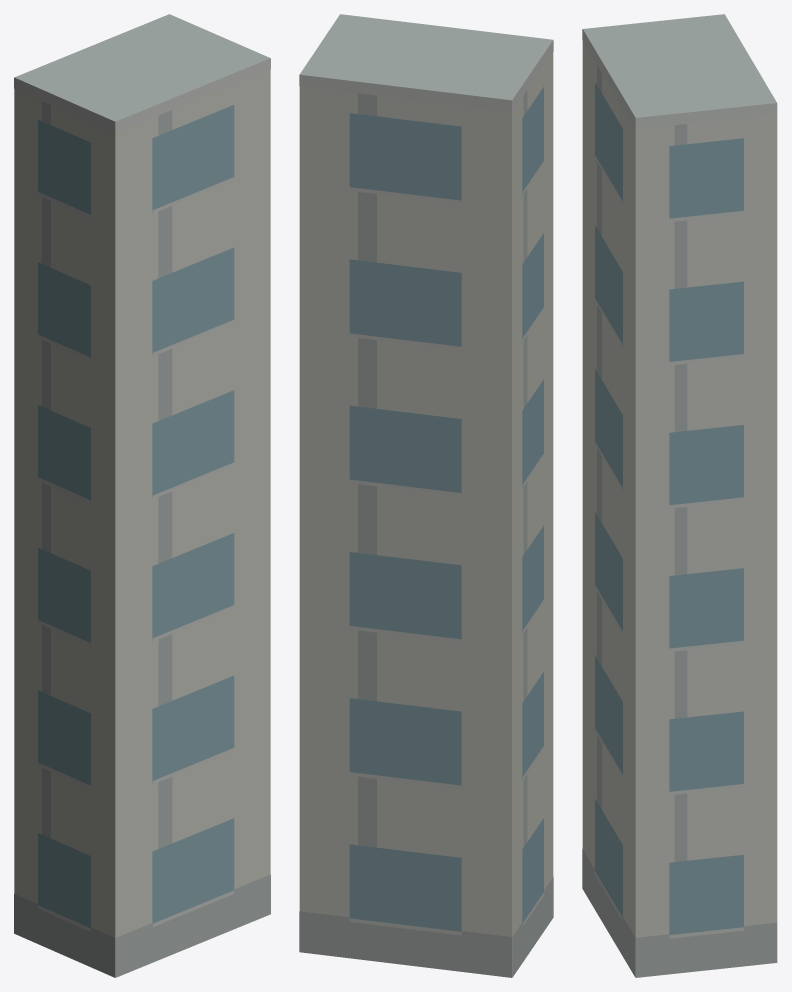
Rendered from survey-upis-32837406.glb.
3 views of the same model, side by side, from view 1: azimuth 30°, elevation 25°; view 2: azimuth 150°, elevation 25°; view 3: azimuth 270°, elevation 25° (orthographic). The views are drawn at different scales.
Visible parts, largest first — view 1: survey-upis-32837406.tmp; view 2: survey-upis-32837406.tmp; view 3: survey-upis-32837406.tmp.
Boxes of the visible parts, left/top/right/bottom form: survey-upis-32837406.tmp: left=14, top=14, right=270, bottom=977; survey-upis-32837406.tmp: left=299, top=14, right=553, bottom=977; survey-upis-32837406.tmp: left=582, top=14, right=777, bottom=977.
Bounding box in the file's own units: 4.76 × 18.3 × 3.76.
